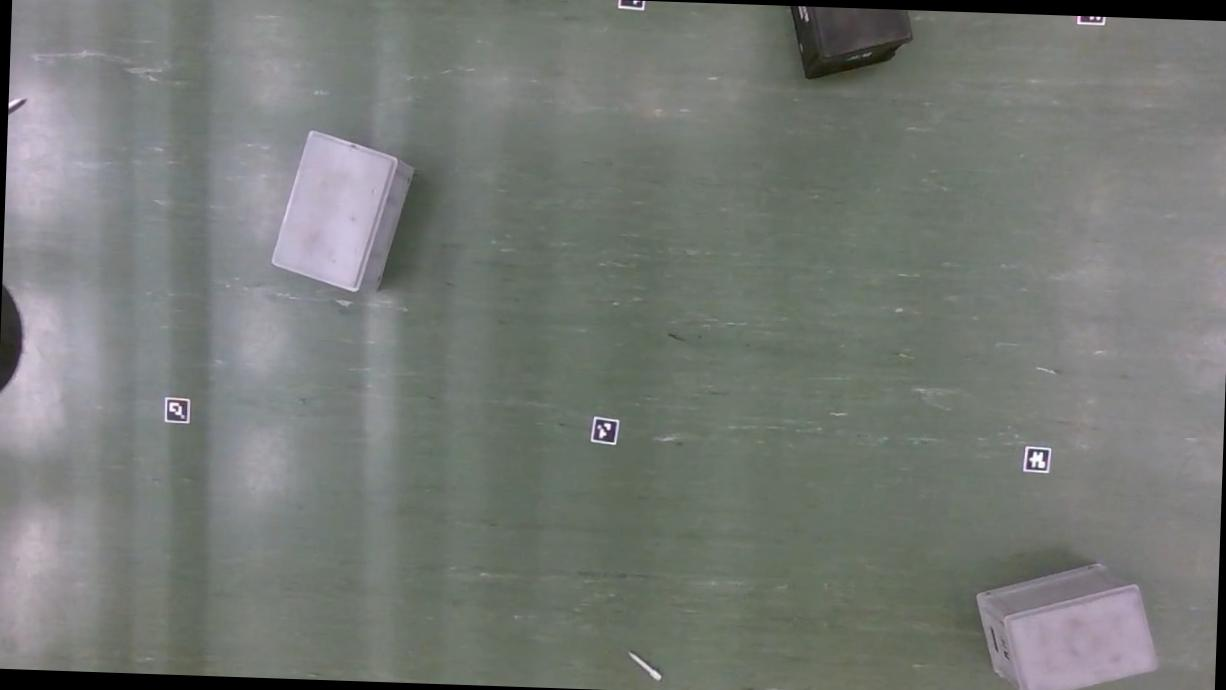probes: (628, 651, 663, 683), (8, 96, 29, 127)
rako: (268, 125, 422, 298), (970, 555, 1164, 690), (776, 5, 916, 82)
